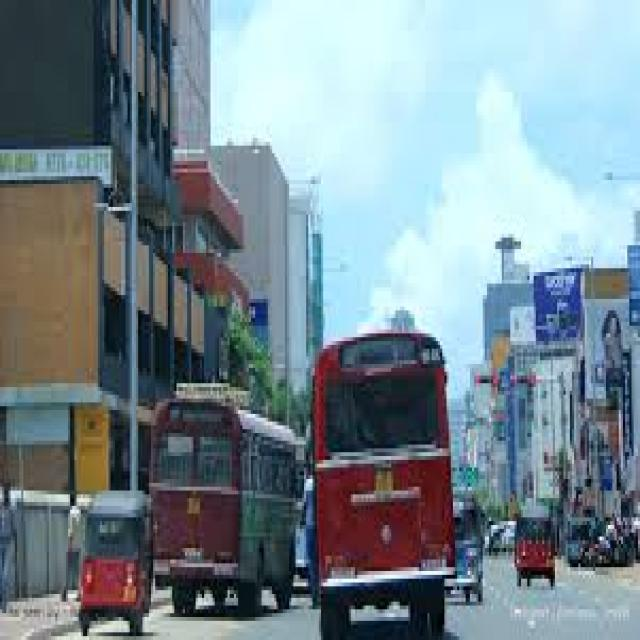bus: (313, 330, 453, 640), (149, 399, 293, 613)
person: (64, 494, 89, 594), (296, 475, 315, 606), (0, 487, 13, 609)
three wheeler: (79, 494, 149, 636), (444, 491, 512, 602), (517, 502, 553, 586)
